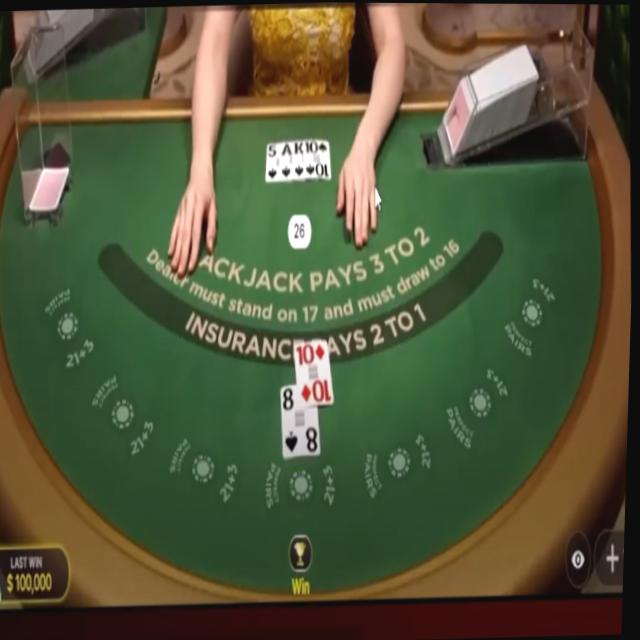Card-10: (294, 337, 335, 408), (304, 137, 331, 178)
Card-5: (266, 140, 281, 181)
Card-8: (282, 381, 322, 456)
Card-A: (281, 140, 294, 181)
Card-K: (293, 138, 306, 179)
